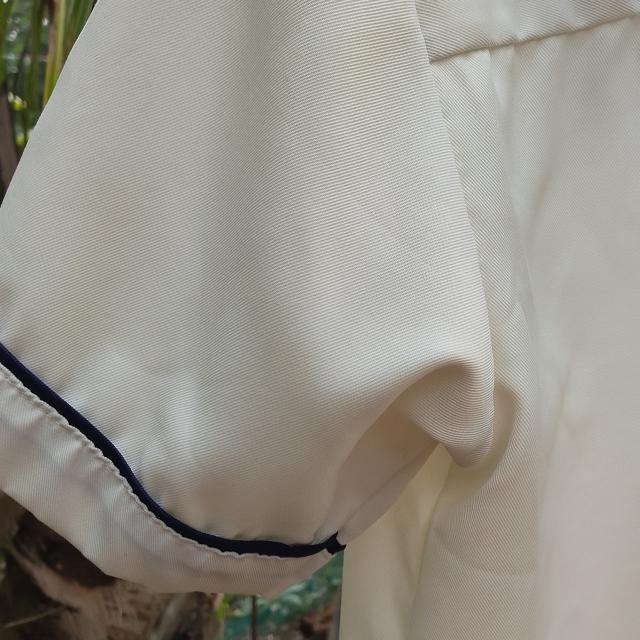education_male_uniform: (0, 0, 549, 610)
